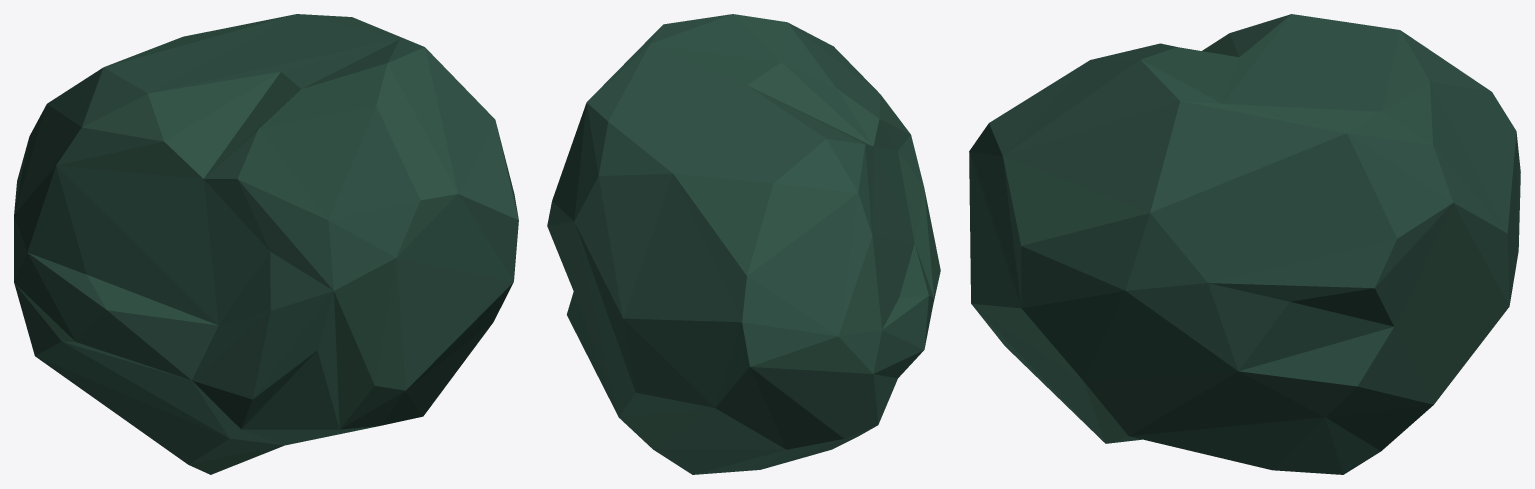
File: SM_large_rock_10.fbx
3 renders of one model, left to right at view 1: azimuth 30°, elevation 25°; view 2: azimuth 150°, elevation 25°; view 3: azimuth 270°, elevation 25°, orthographic. The views are drawn at different scales.
Parts seen in each view (by area): view 1: large_rock_10; view 2: large_rock_10; view 3: large_rock_10.
Boxes of the visible parts, x1,y1,x2,y2 form: large_rock_10: (14, 14, 518, 474); large_rock_10: (547, 14, 940, 474); large_rock_10: (969, 14, 1520, 474).
Bounding box in the file's own units: 48.17 × 50.73 × 55.88.
